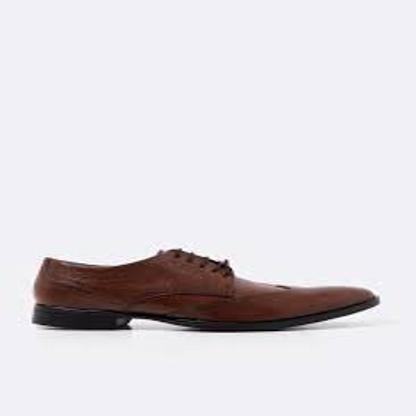not trash: (35, 247, 380, 334)
